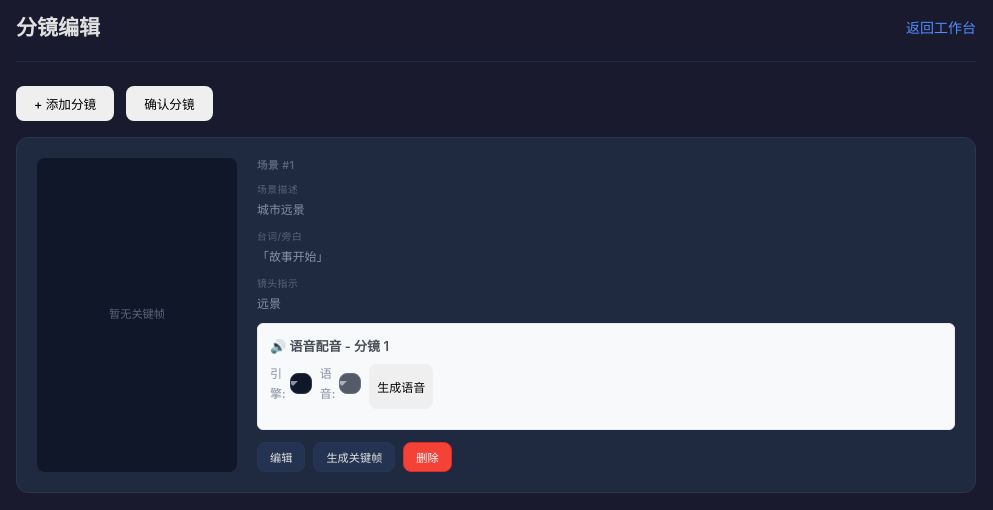
Test case: StoryboardPage - 关键帧功能 › 生成中显示加载状态
Click the button with aria-label "生成关键帧 1" at (354, 457), box [313, 442, 395, 472]
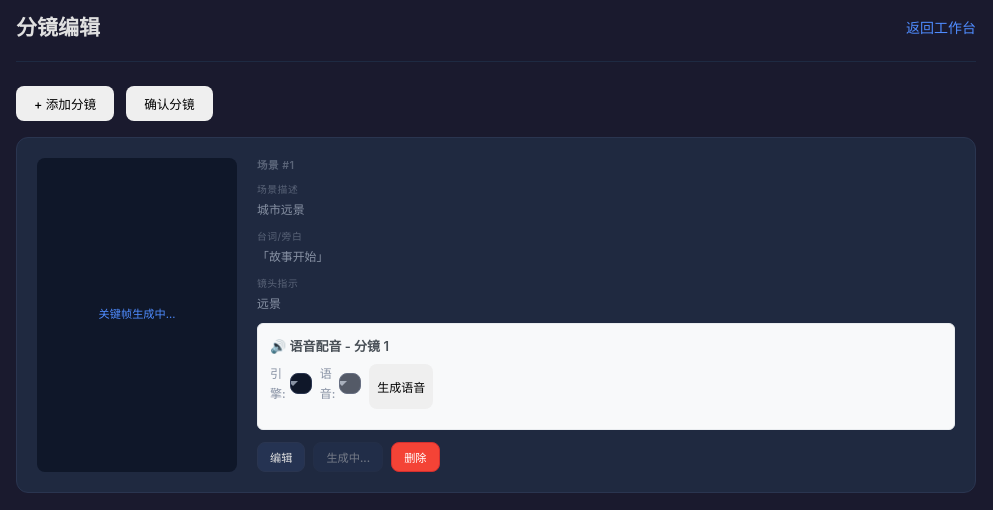
Result: the text with test id "keyframe-loading-scene-1" reads "关键帧生成中..." at [99, 307, 175, 321]
Result: the button "生成中..." is disabled at [313, 442, 383, 472]
